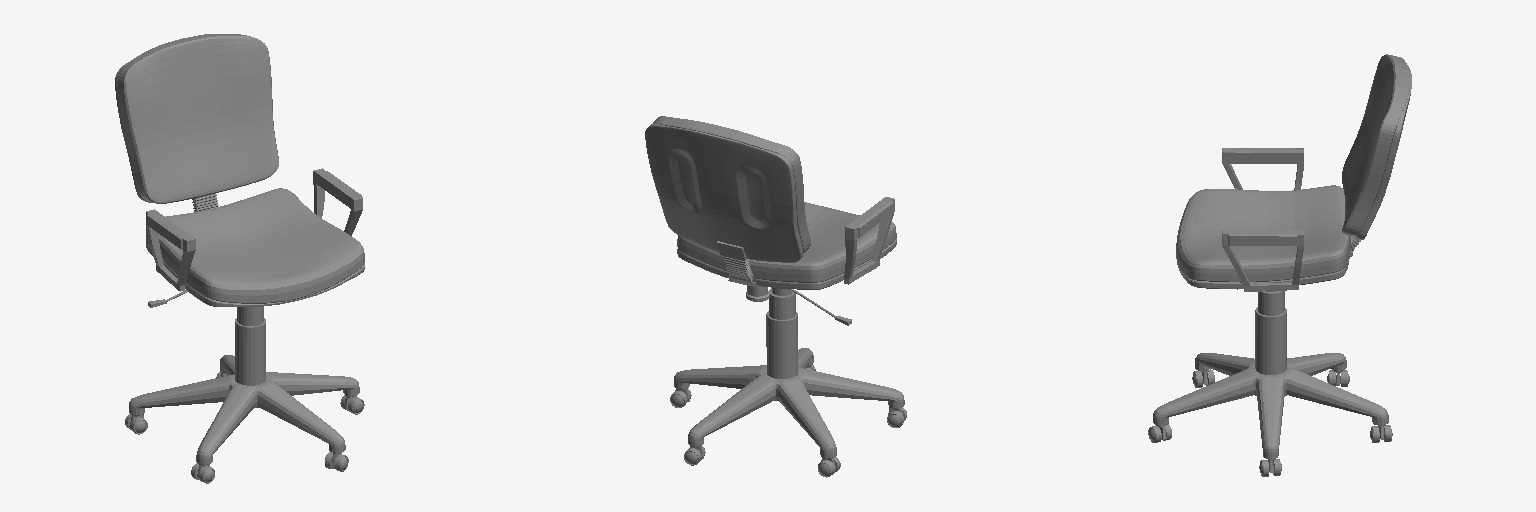
Rendered from Office_chair.obj.
3 views of the same model, side by side, from view 1: azimuth 30°, elevation 25°; view 2: azimuth 150°, elevation 25°; view 3: azimuth 270°, elevation 25° (orthographic).
Visible parts, largest first — view 1: Office_chair; view 2: Office_chair; view 3: Office_chair.
Boxes of the visible parts, x1,y1,x2,y2 form: Office_chair: [115, 34, 364, 483]; Office_chair: [645, 116, 906, 477]; Office_chair: [1148, 54, 1411, 476].
Size of the model in its own units: 6.22 by 10.35 by 7.08.